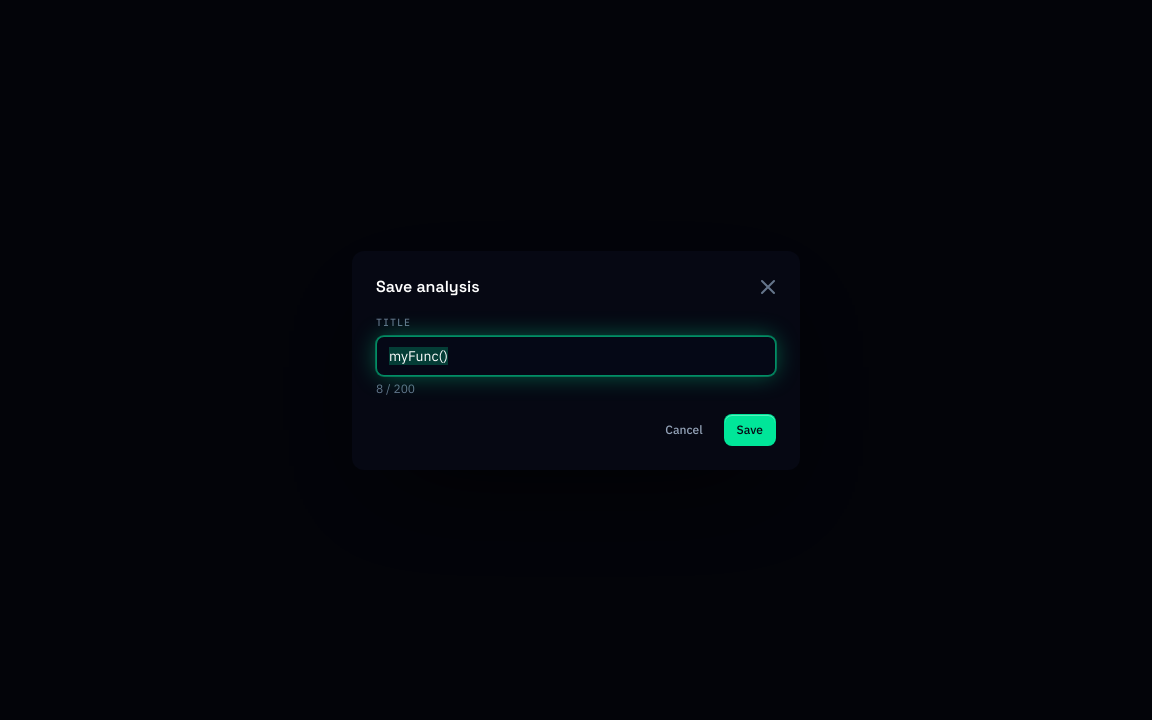
SaveDialog — pending state › Save button is disabled and shows Saving… while pending
Click the button "Save" at (750,430), box [724, 414, 776, 446]
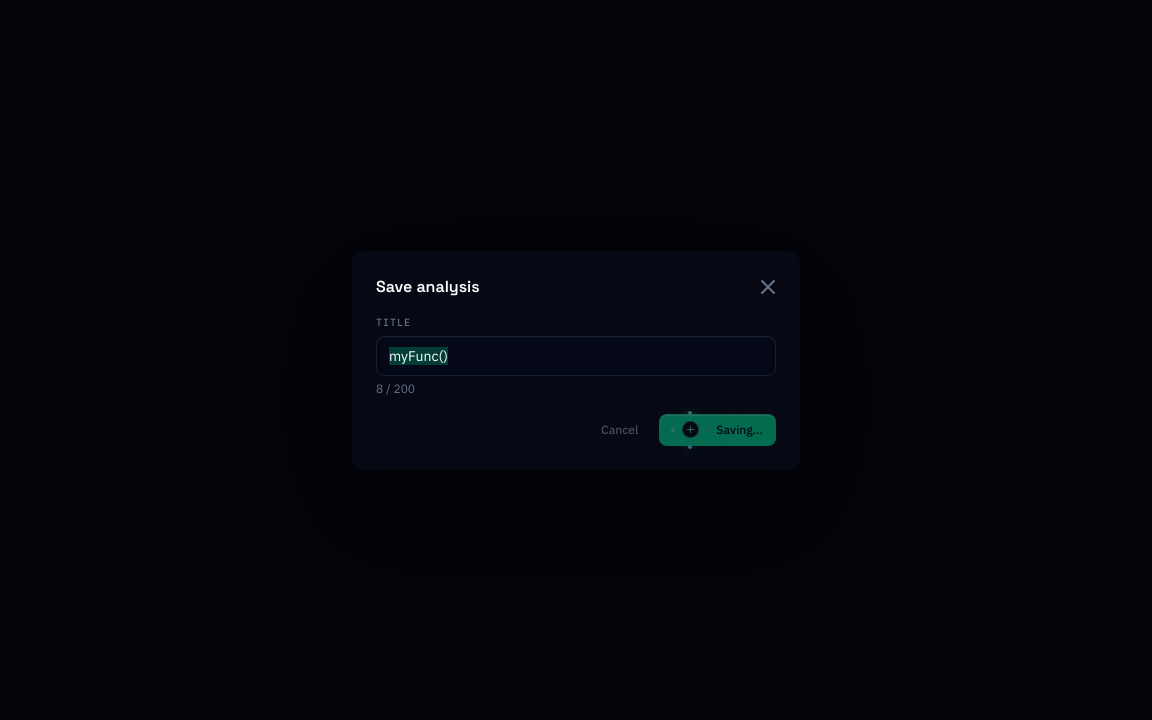
Check: the button "Saving…" is disabled, box [659, 414, 776, 446]
